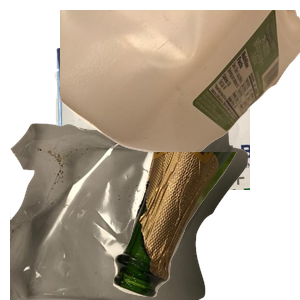glass: (111, 152, 300, 300)
paper: (52, 34, 292, 214)
plastic: (60, 10, 300, 160)
trash: (10, 120, 250, 300)
